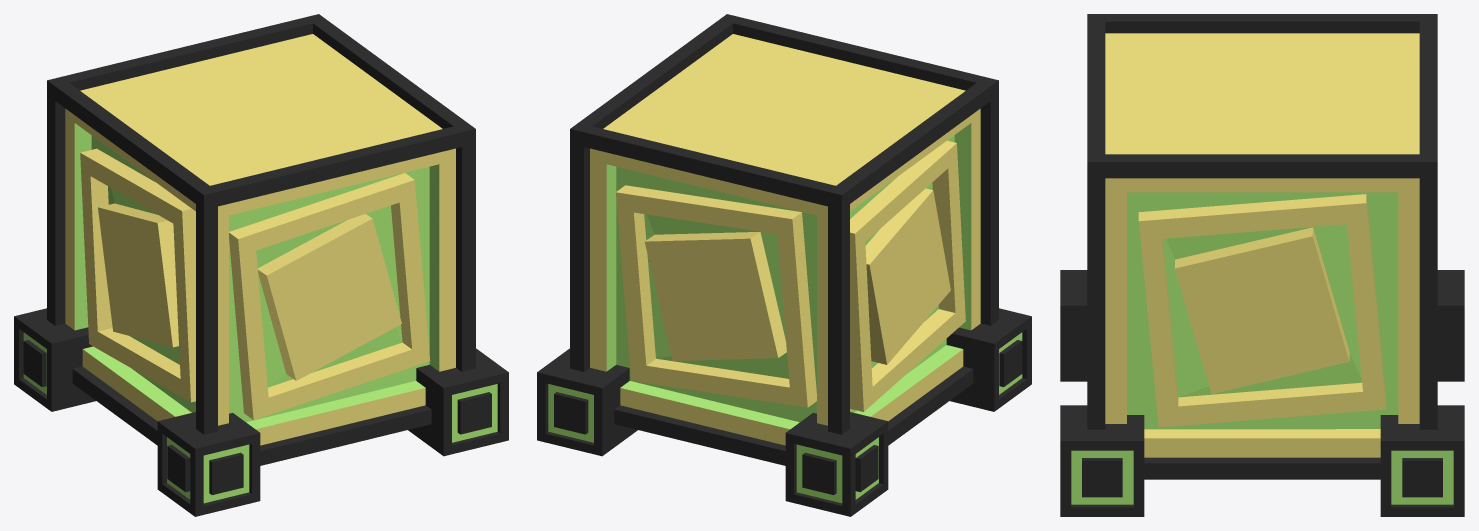
File: basic_block.fbx
The picture shows the model from 3 angles, left to right: view 1: azimuth 30°, elevation 25°; view 2: azimuth 150°, elevation 25°; view 3: azimuth 270°, elevation 25°; orthographic projection. The views are drawn at different scales.
Parts seen in each view (by area): view 1: Mesh; view 2: Mesh; view 3: Mesh.
Part boxes in pixels (x1,y1,x2,y2): Mesh: (14,14,508,516); Mesh: (537,14,1031,516); Mesh: (1060,14,1464,516).
Size of the model in its own units: 0.7928 by 0.7434 by 0.7928.
